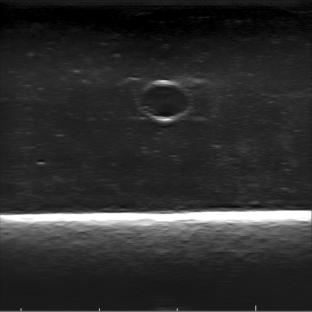vessel: (136, 79, 191, 122)
